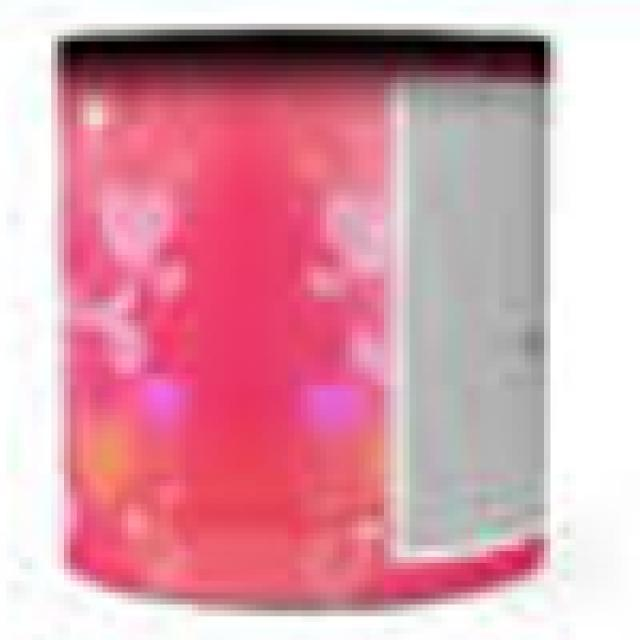taza: (51, 22, 558, 609)
